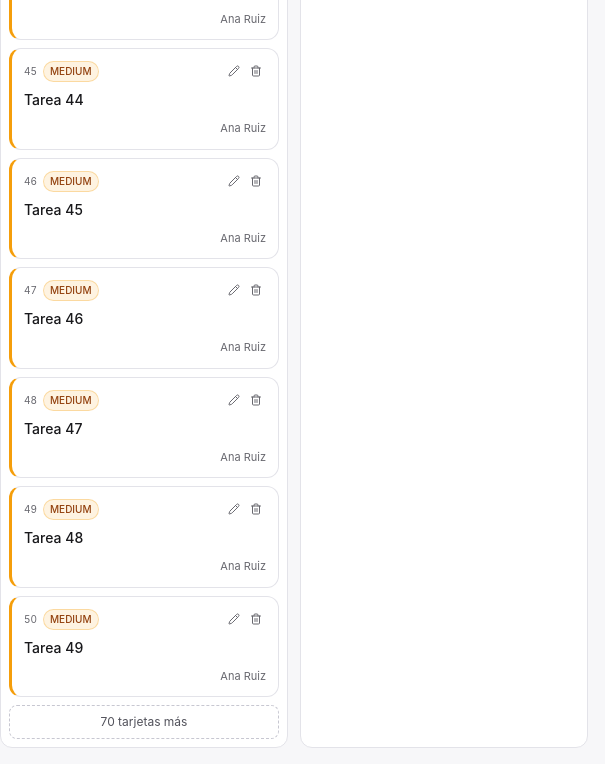
Test case: §5 · la carga paginada por columna no se pierde al mover una tarjeta › al desplegar una tanda más, la columna se queda donde la dejaron
(page scrolled)
Click the button with test id "mas-tarjetas-col-2" at (144, 722), box left=9, top=705, right=279, bottom=739
(page scrolled)
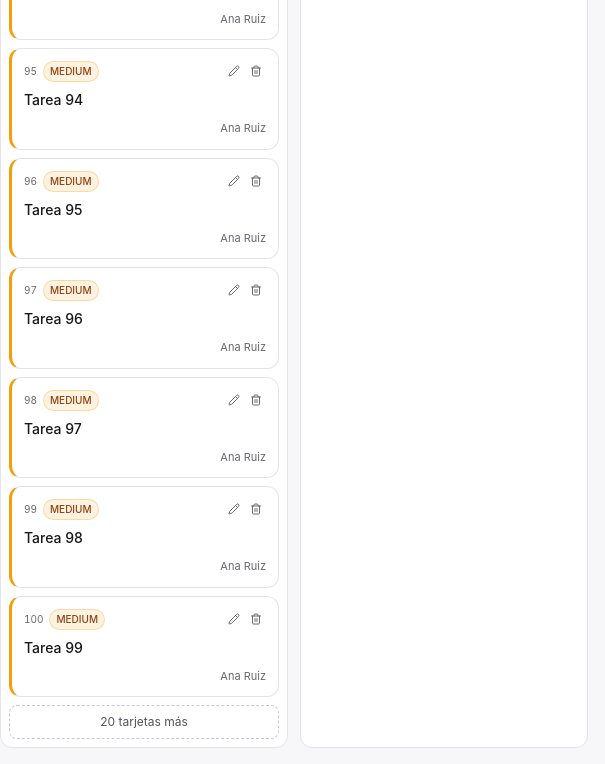
Expected: the button with test id "mas-tarjetas-col-2" reads "20 tarjetas más", left=9, top=705, right=279, bottom=739
